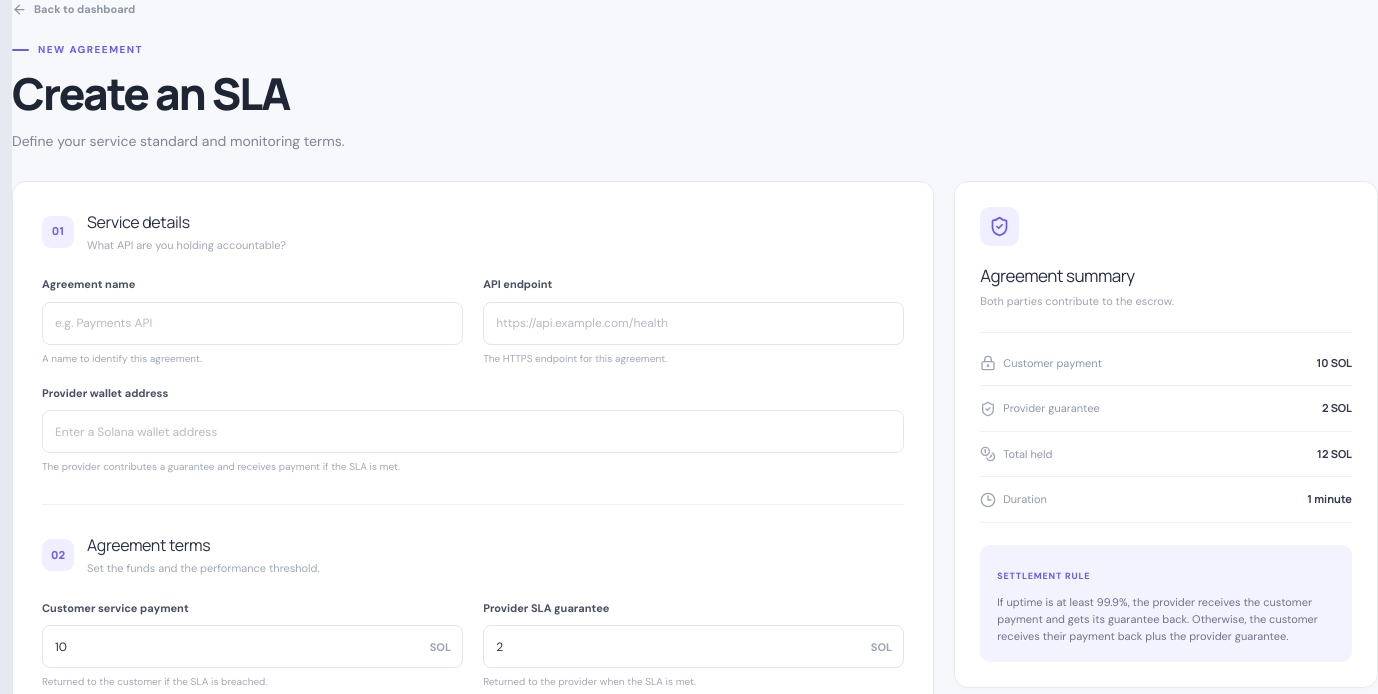
Test: CreateSLAPage › previews the escrow and duration in the summary
Expected: the text "12 SOL" is shown, [1317,446,1352,462]
Expected: the text "1 minute" is shown, [1307,491,1352,508]
Clear the number field labelled "Customer service payment": (253,647) [42,625,463,668]
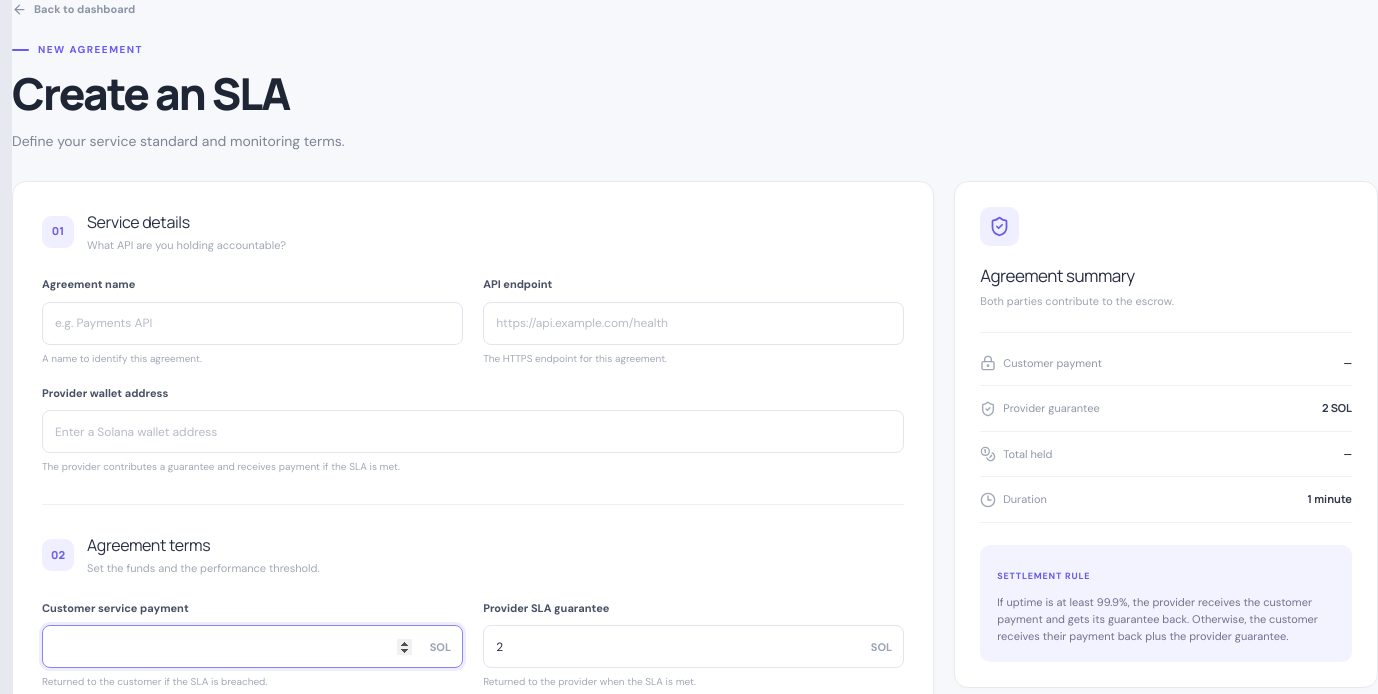
Now the 1st text "—" is shown, box [1343,355,1352,371]
In the number field labelled "Customer service payment": (253,647) [42,625,463,668], type "2.5"
(page scrolled)
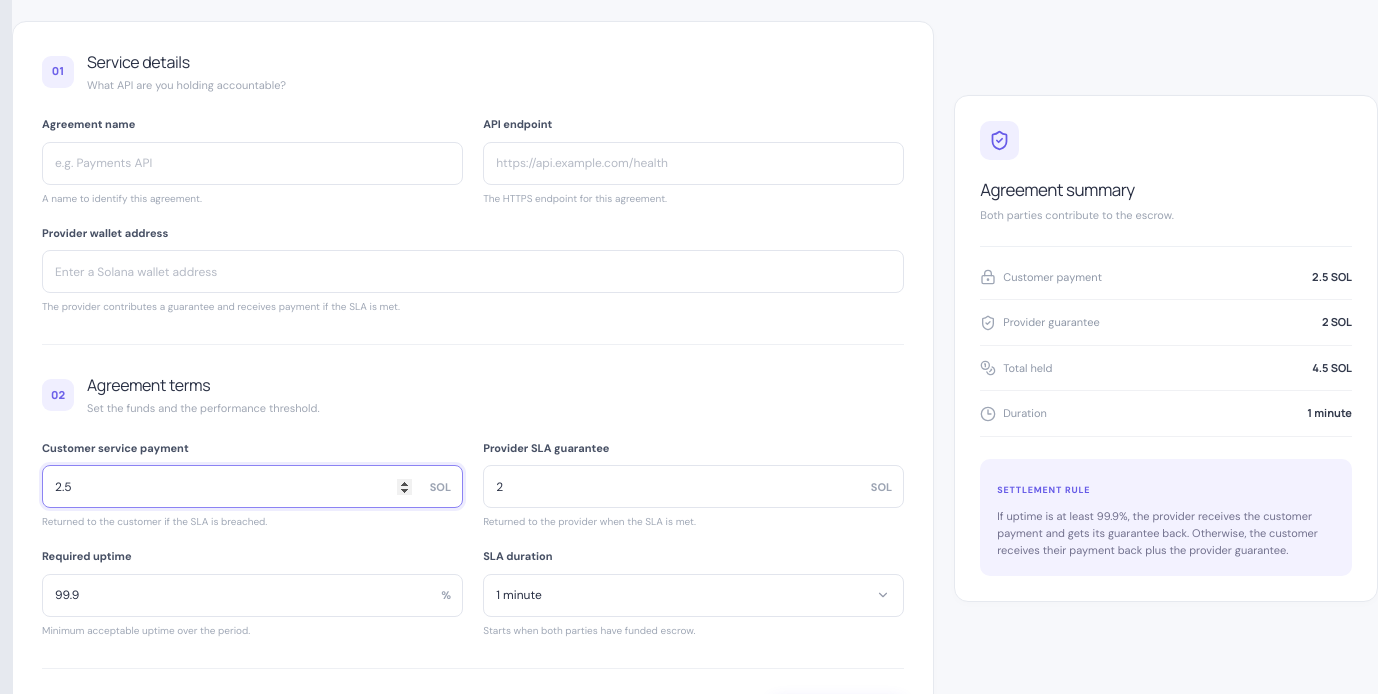
Now the text "4.5 SOL" is shown, box [1312,360,1352,376]
Select "7 days" in the dropdown labelled "SLA duration": (694,595) [483,574,904,617]
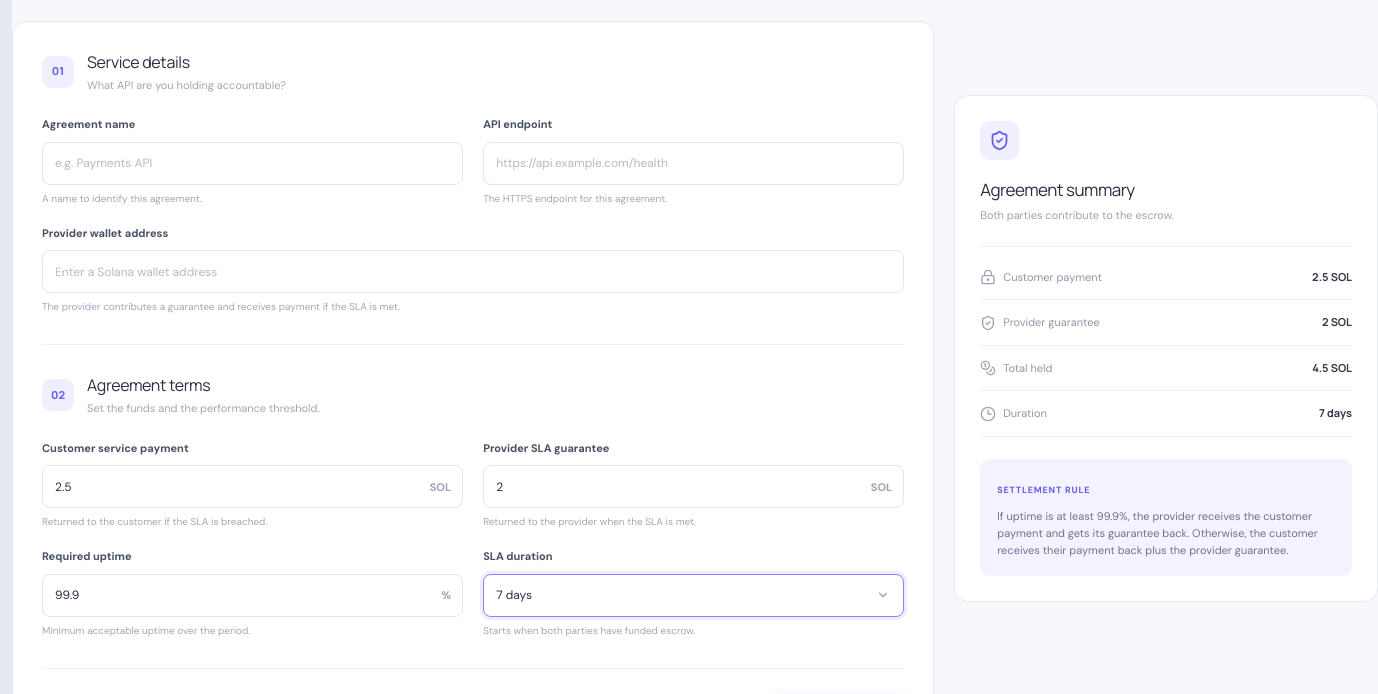
Now the text "7 days" is shown, box [1319,406,1352,422]
